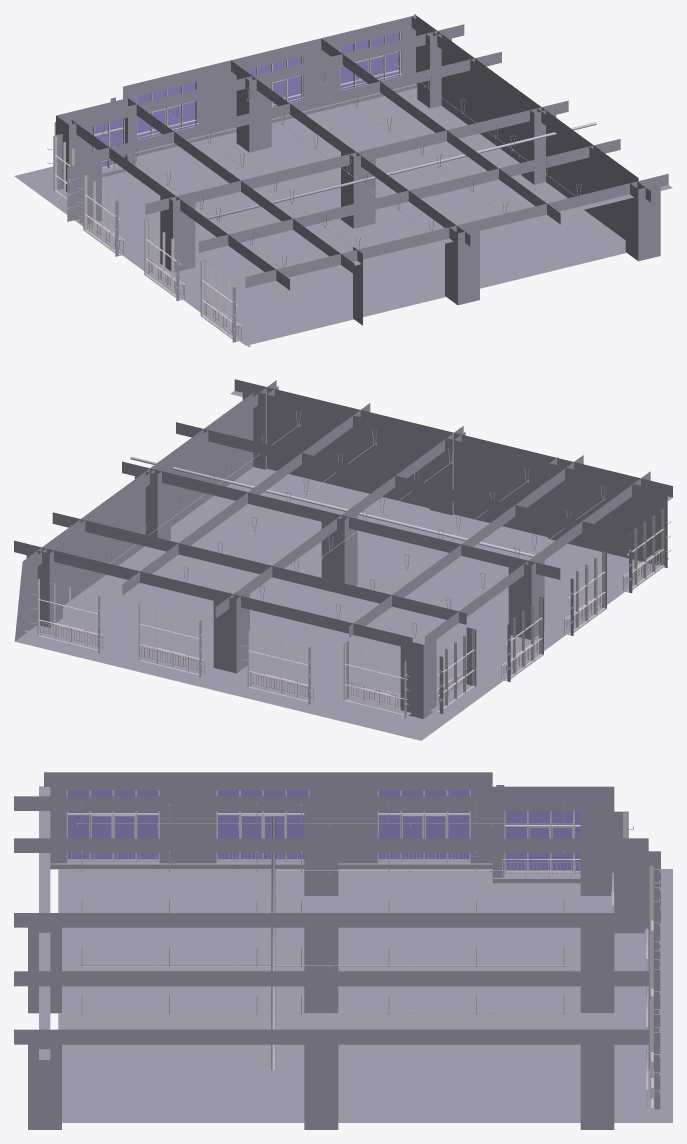
File: OfficeSpaceNormalFix.glb
3 renders of one model, top to bottom at view 1: azimuth 30°, elevation 25°; view 2: azimuth 150°, elevation 25°; view 3: azimuth 270°, elevation 25°, orthographic. The views are drawn at different scales.
Parts seen in each view (by area): view 1: Concrete, Windows, Sprinklers, WindowRails; view 2: Concrete, Windows, Sprinklers, WindowRails; view 3: Concrete, Windows, Sprinklers, WindowRails.
Part boxes in pixels (bbox=[...]): Concrete: bbox=[14, 14, 672, 346]; Windows: bbox=[54, 32, 400, 340]; Sprinklers: bbox=[99, 50, 596, 267]; WindowRails: bbox=[89, 73, 402, 340]; Concrete: bbox=[14, 379, 672, 740]; Windows: bbox=[38, 508, 664, 715]; Sprinklers: bbox=[107, 411, 605, 639]; WindowRails: bbox=[40, 549, 659, 708]; Concrete: bbox=[14, 772, 672, 1129]; Windows: bbox=[66, 790, 653, 1107]; Sprinklers: bbox=[76, 803, 572, 1070]; WindowRails: bbox=[66, 853, 647, 1109].
Bounding box in the file's own units: 29.35 × 4.57 × 28.63.
